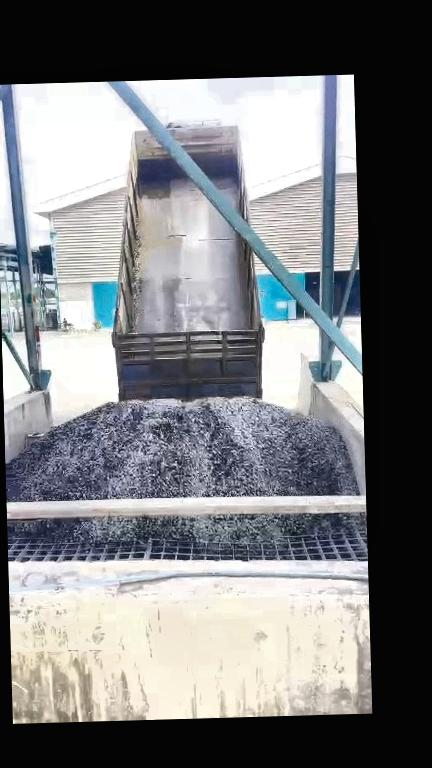gravel: (6, 398, 358, 501), (16, 515, 350, 540)
